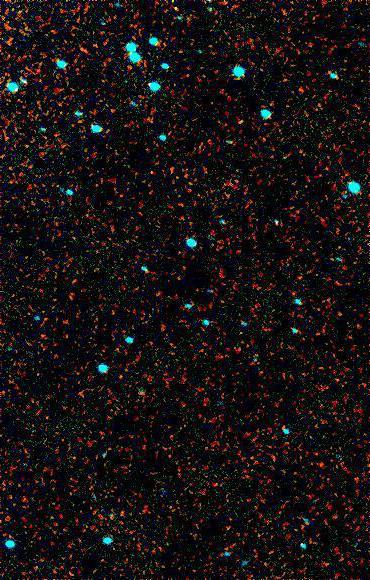star: (160, 0, 190, 22)
